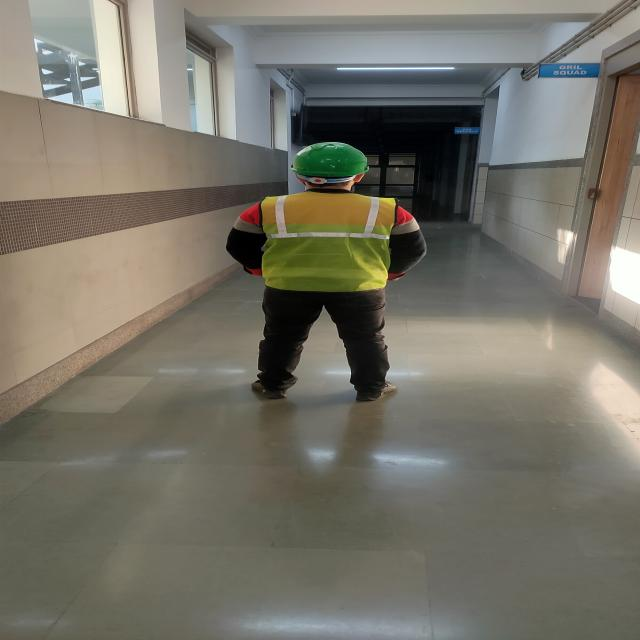safe: (224, 142, 430, 404)
